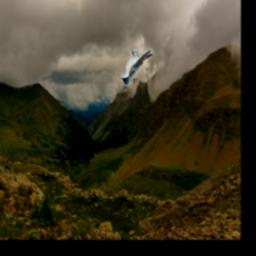Swallow: (120, 49, 154, 87)
